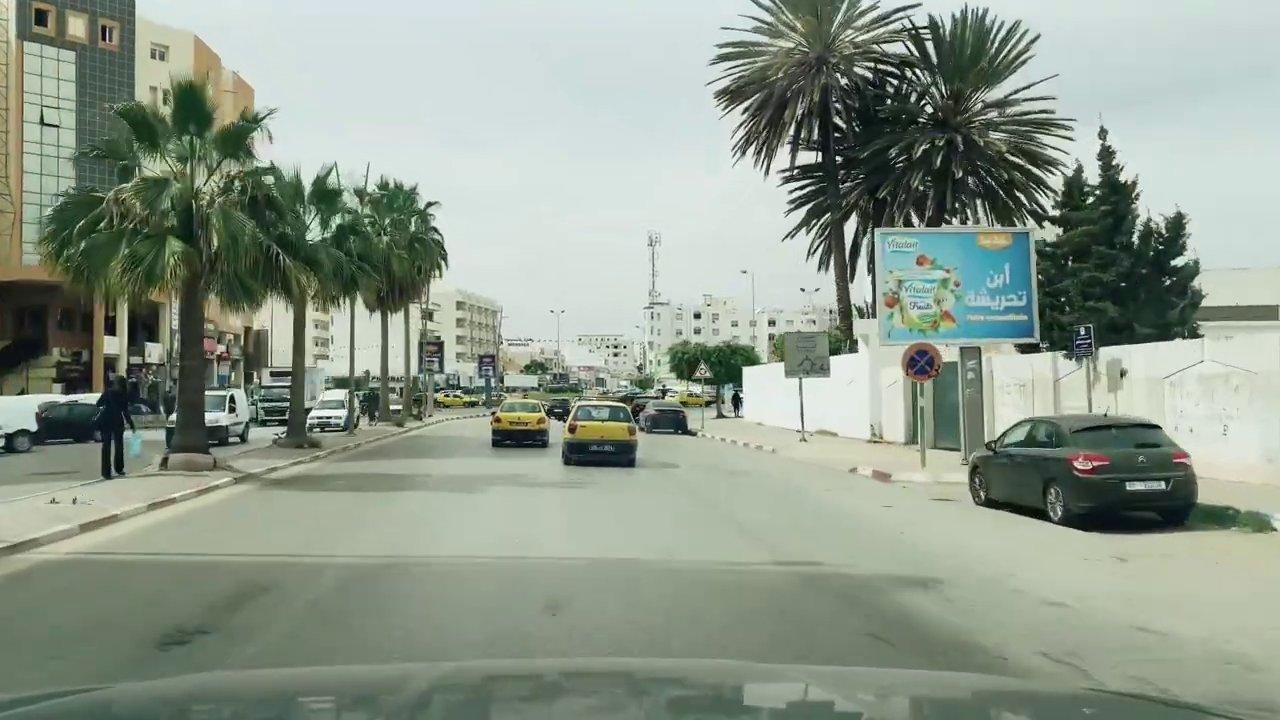no stopping: (900, 344, 944, 382)
roundabout: (690, 358, 717, 383)
